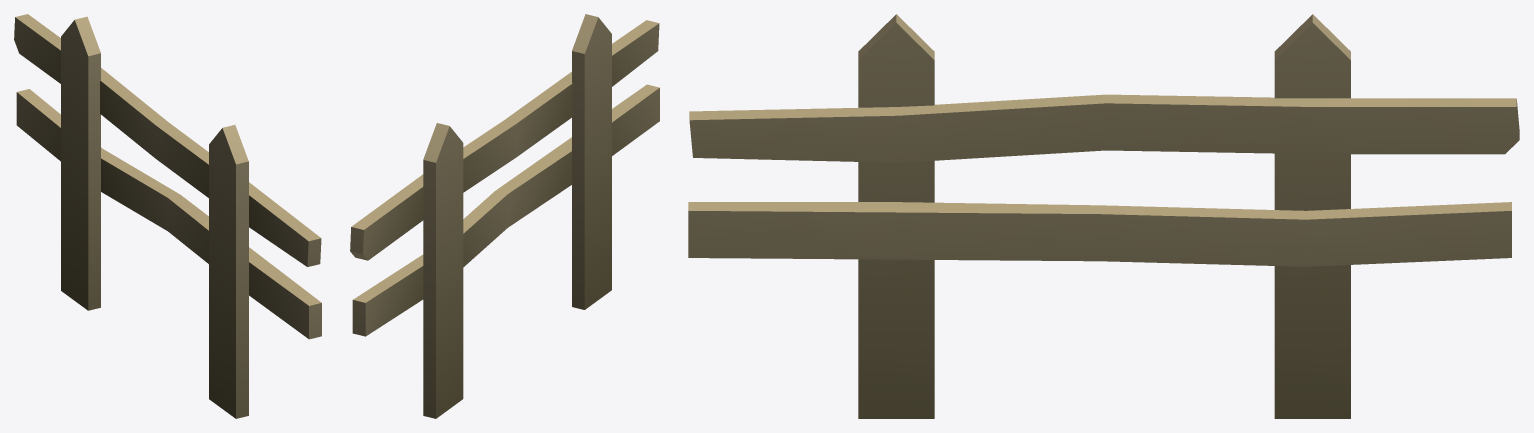
Rendered from Fence_1B.fbx.
3 renders of one model, left to right at view 1: azimuth 30°, elevation 25°; view 2: azimuth 150°, elevation 25°; view 3: azimuth 270°, elevation 25°, orthographic. The views are drawn at different scales.
Visible parts, largest first — view 1: Fence_1B; view 2: Fence_1B; view 3: Fence_1B.
Part boxes in pixels (x1=…): Fence_1B: x1=14, y1=14, x2=321, y2=418; Fence_1B: x1=350, y1=14, x2=659, y2=418; Fence_1B: x1=688, y1=14, x2=1519, y2=418.
Bounding box in the file's own units: 11.88 × 105 × 200.
